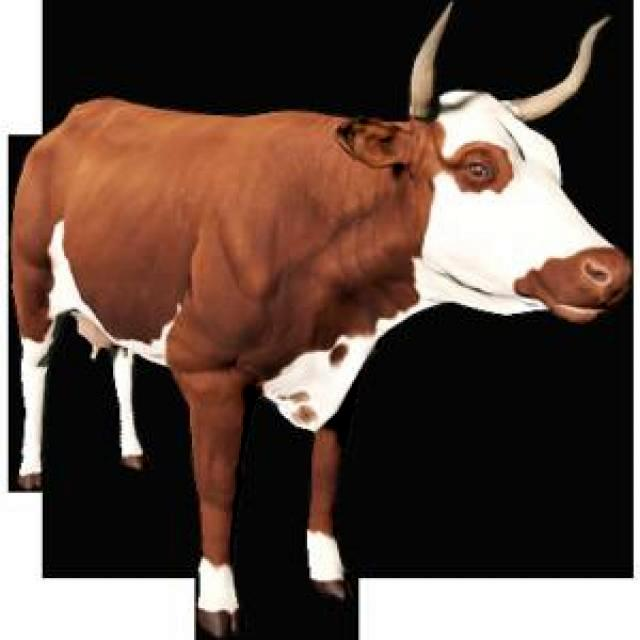COW: (12, 4, 631, 636)
